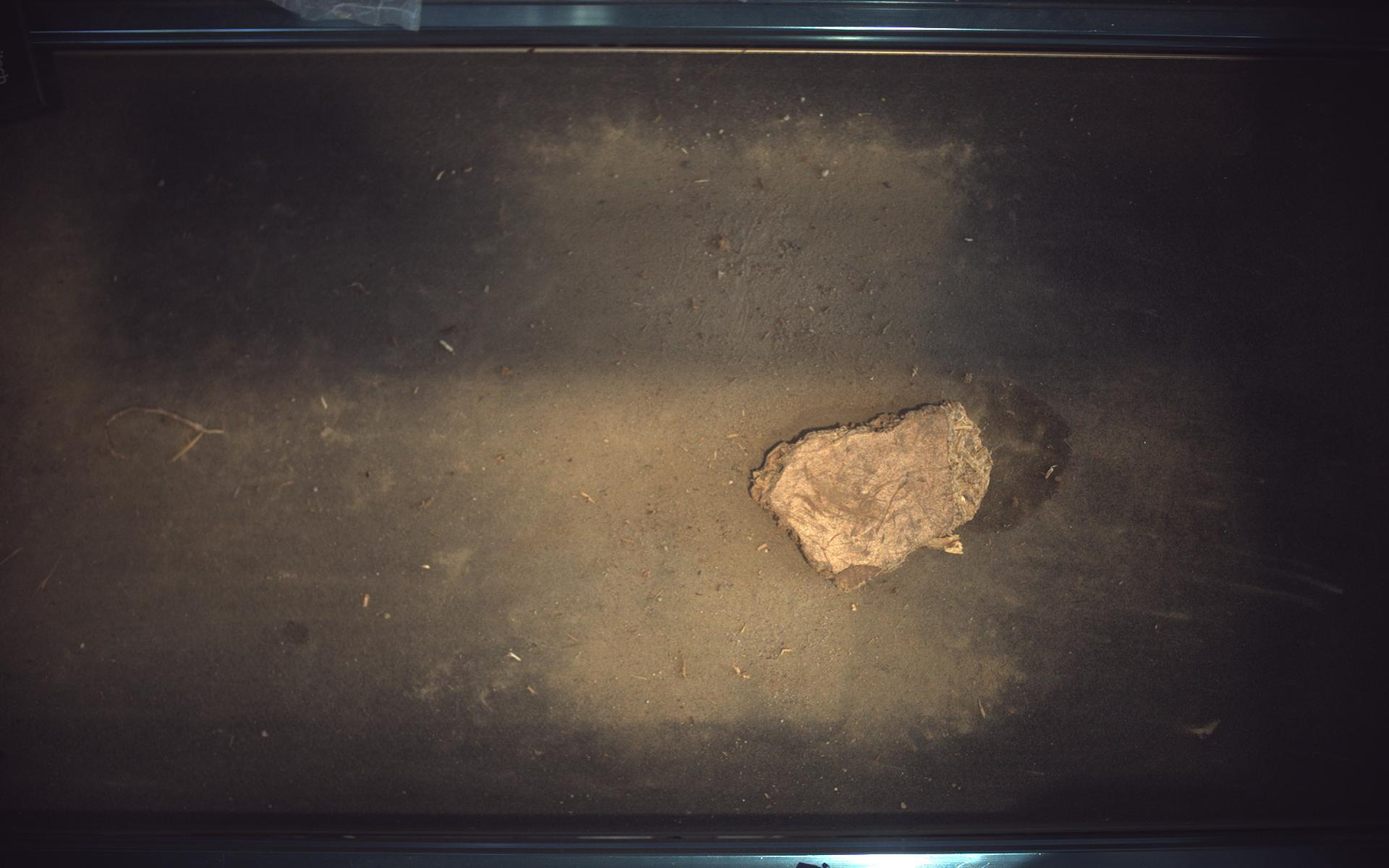wood: (752, 401, 995, 590)
